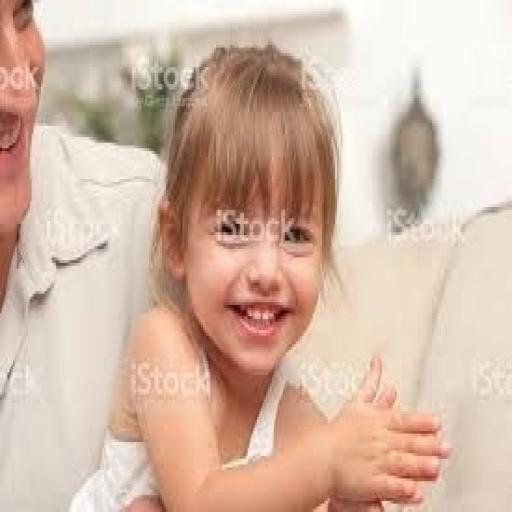clapping: (65, 39, 453, 509)
